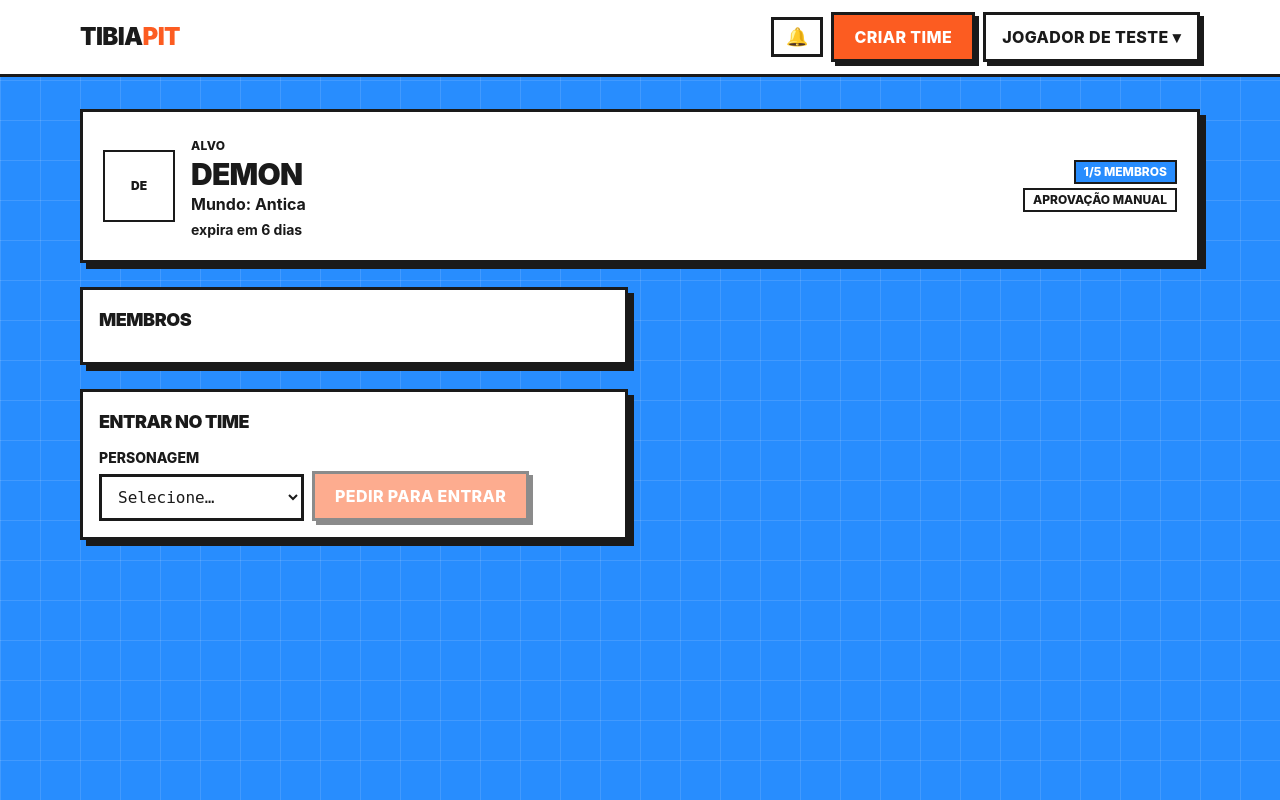
Test: TeamDetailPage — pedir para entrar › envia o shareCode do time e o personagem escolhido, e confirma na tela
Check: the heading "Demon" is shown, box [191,156,302,192]
Select "Druida de Antica" in the dropdown labelled "Personagem" at x=202, y=498, box [99,474,304,521]
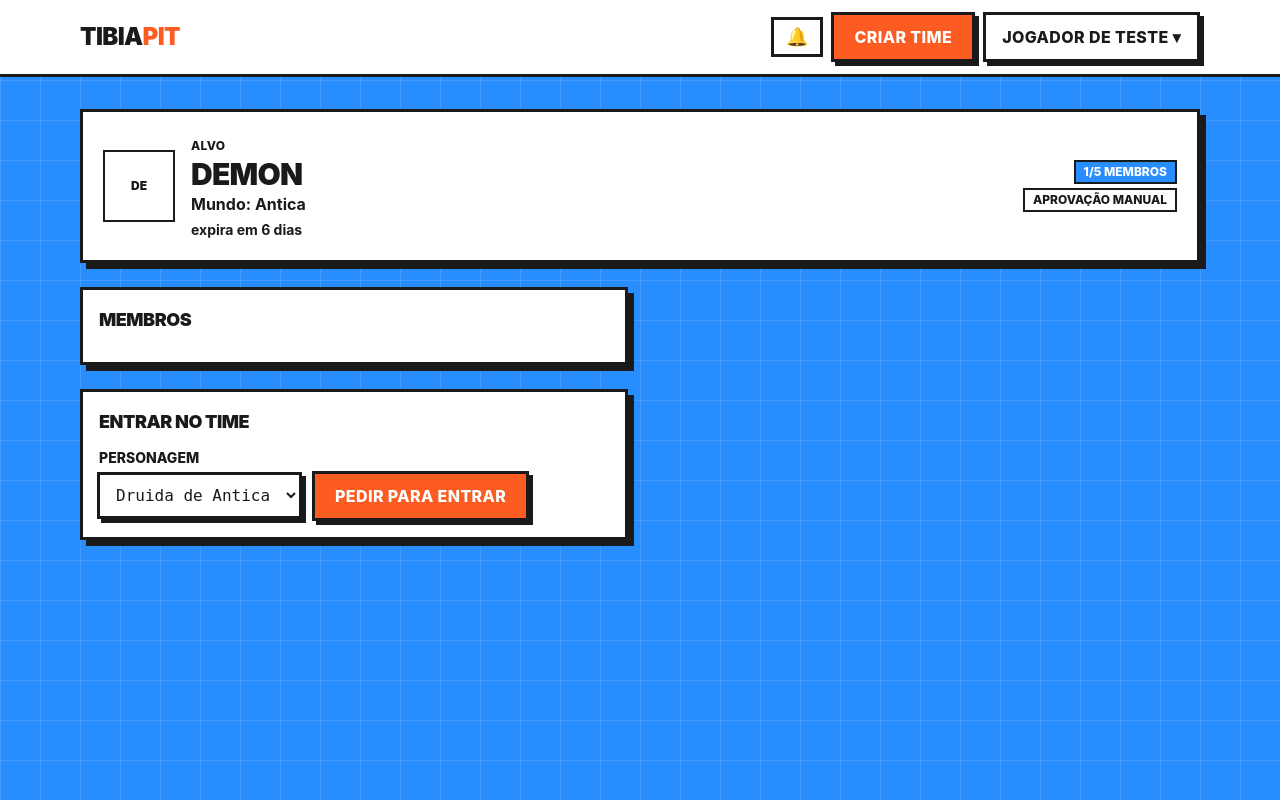
Click the button "Pedir para entrar".
click(421, 496)  # box [312,471,529,521]
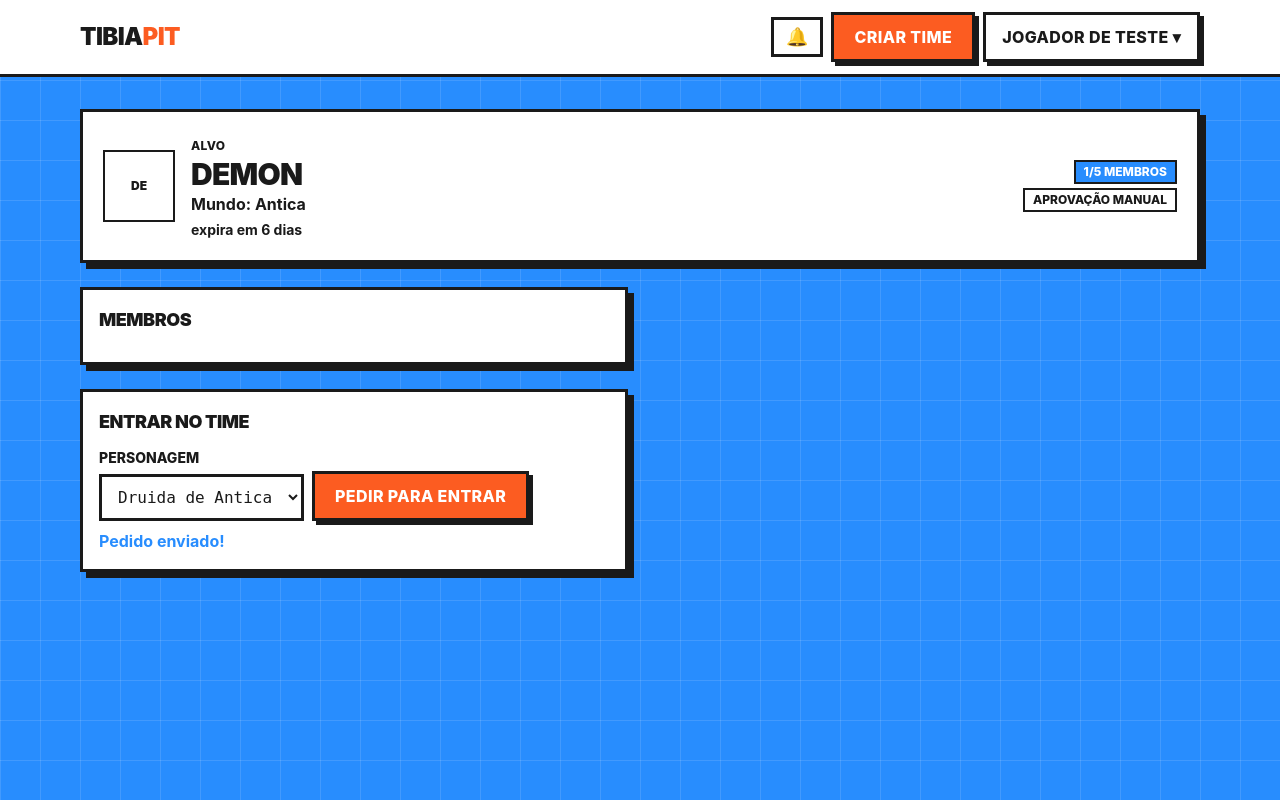
Check: the text "Pedido enviado!" is shown, box [99,531,225,551]
